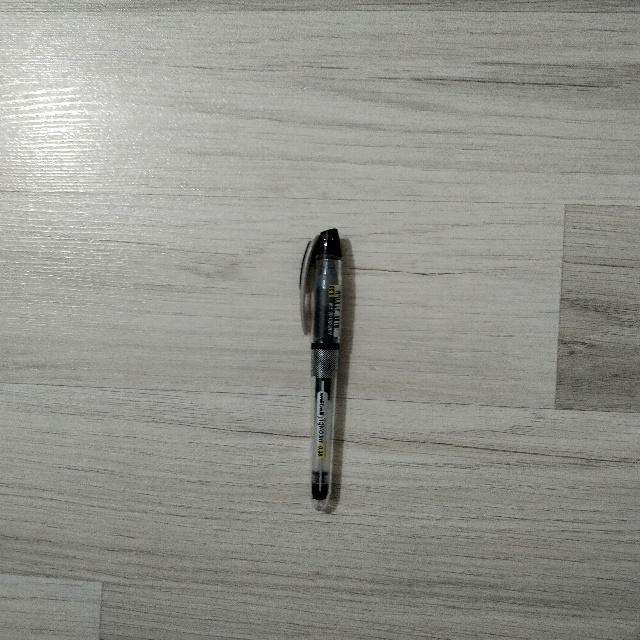pen: (300, 229, 341, 509)
